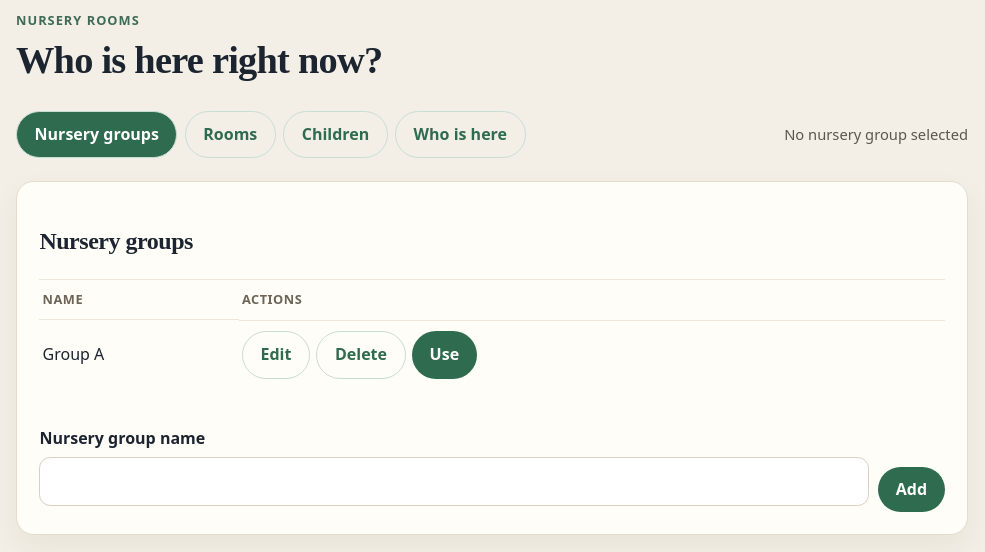
Scenario: directory tables › shows nursery groups, room names, and child names
Expected: the text "Group A" is shown, [39,320,239,389]
Click the button "Use" at point(444, 355), box [412,331,477,379]
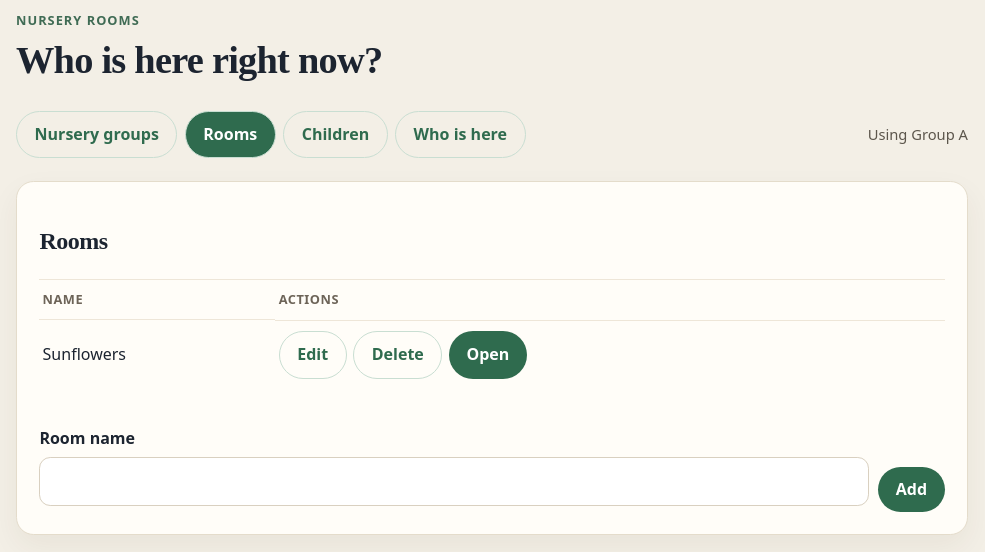
Expected: the text "Ava" is not shown
Result: the heading "Rooms" is shown at [39,228,108,254]
Result: the text "Sunflowers" is shown at [39,320,276,389]
Click the button "Children" at point(335, 135), box [283,111,388,158]
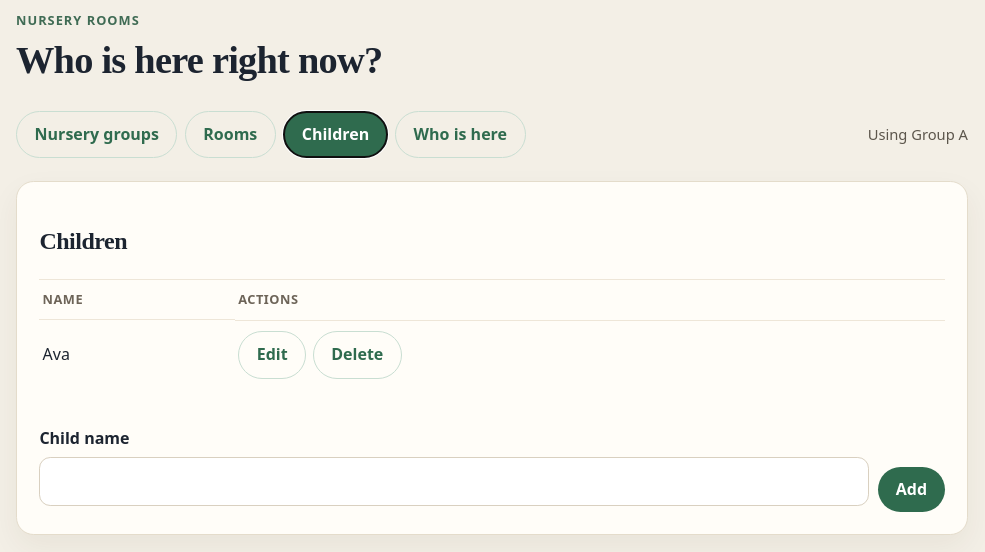
Result: the heading "Children" is shown at [39,228,127,254]
Result: the text "Ava" is shown at [39,320,235,389]
Result: the text "Sunflowers" is gone
